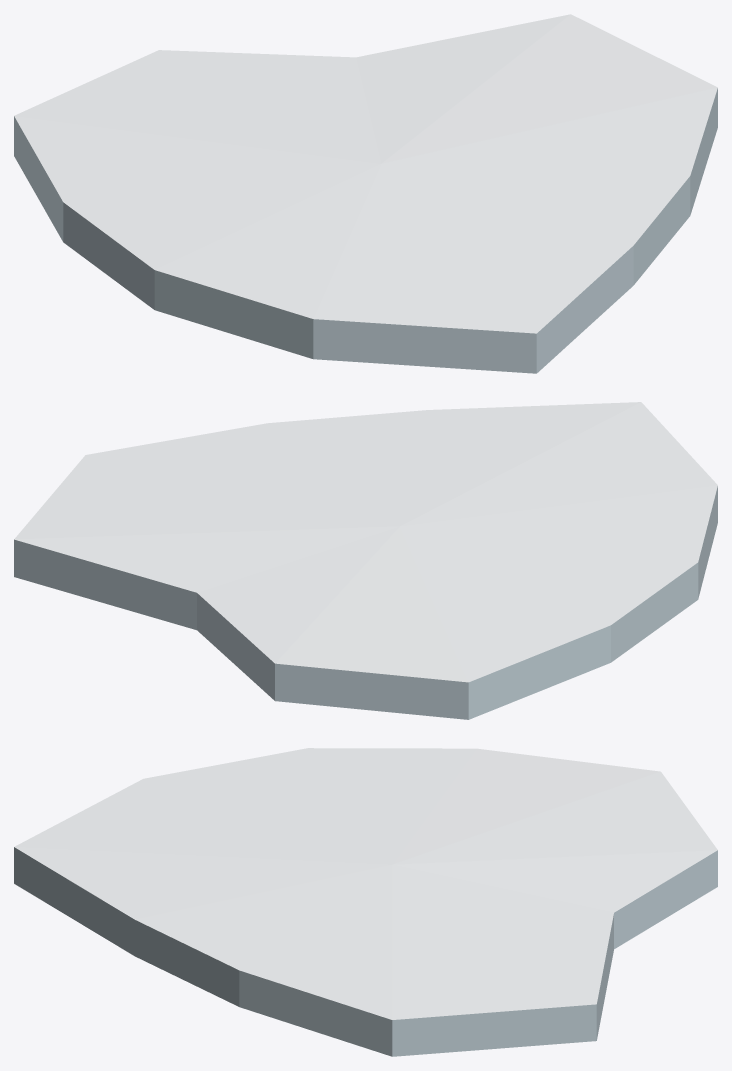
File: IceFloe.fbx
3 renders of one model, top to bottom at view 1: azimuth 30°, elevation 25°; view 2: azimuth 150°, elevation 25°; view 3: azimuth 270°, elevation 25°, orthographic. The views are drawn at different scales.
Visible parts, largest first — view 1: IceFloe; view 2: IceFloe; view 3: IceFloe.
Part boxes in pixels (x1,y1,x2,y2): IceFloe: [14, 14, 717, 373]; IceFloe: [14, 402, 717, 719]; IceFloe: [14, 748, 717, 1056].
Bounding box in the file's own units: 5.56 × 0.45 × 6.08.
